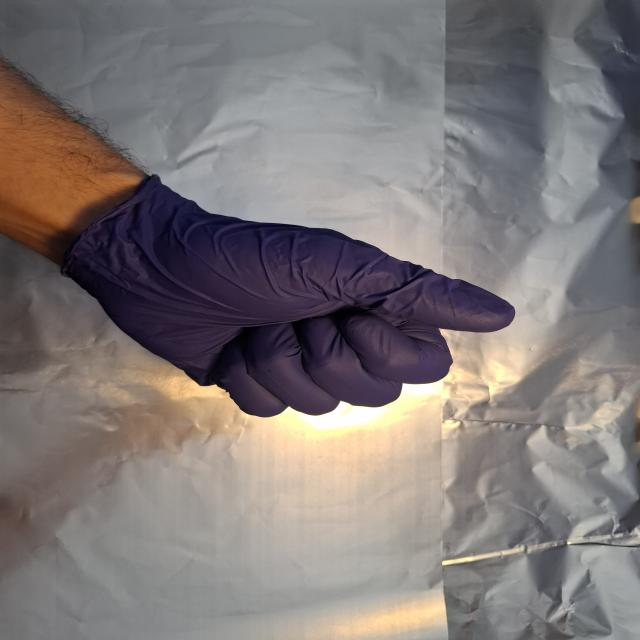glove_on: (58, 175, 522, 421)
